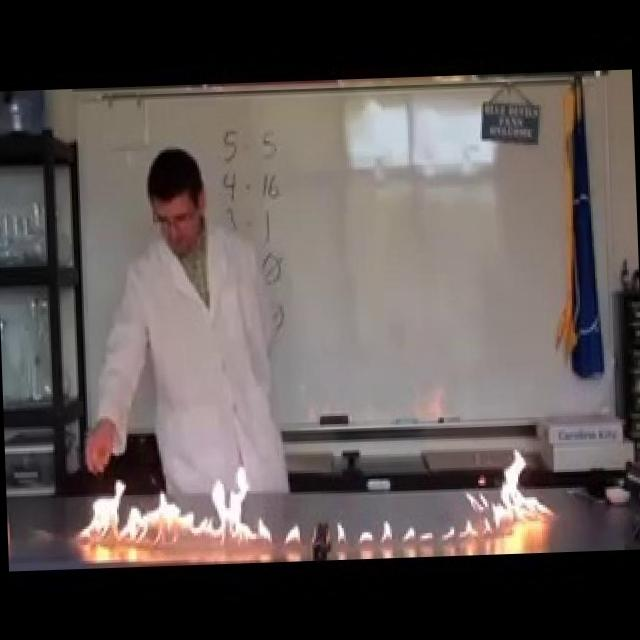Fire: (66, 462, 274, 552), (456, 442, 556, 544)
